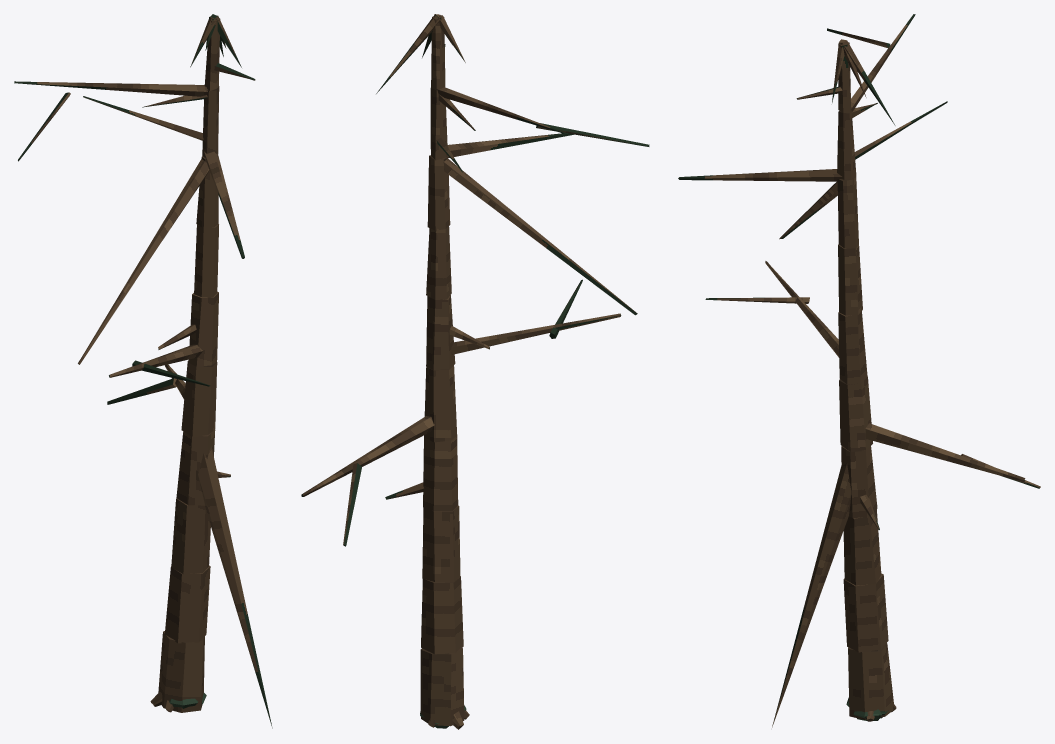
File: snag_05.glb
3 renders of one model, left to right at view 1: azimuth 30°, elevation 25°; view 2: azimuth 150°, elevation 25°; view 3: azimuth 270°, elevation 25°, orthographic.
Visible parts, largest first — view 1: snag_05; view 2: snag_05; view 3: snag_05.
Part boxes in pixels (x1=…): snag_05: x1=14, y1=14, x2=272, y2=728; snag_05: x1=301, y1=14, x2=649, y2=729; snag_05: x1=678, y1=14, x2=1040, y2=727.
Size of the model in its own units: 1.49 by 3.98 by 1.91.
2 materials, 2 textured.
